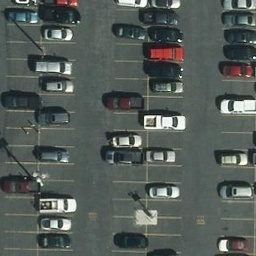car: (218, 97, 255, 115), (218, 180, 255, 198), (211, 234, 248, 252), (149, 43, 185, 61), (146, 60, 182, 78), (144, 114, 185, 129), (102, 94, 143, 109), (41, 25, 75, 42), (36, 147, 74, 162), (40, 197, 78, 212), (152, 78, 185, 95), (110, 21, 143, 38), (149, 25, 182, 42), (220, 63, 255, 79), (221, 44, 256, 60), (221, 26, 256, 42), (1, 179, 38, 194), (7, 8, 41, 24), (37, 60, 71, 76), (42, 78, 76, 94), (4, 93, 38, 109), (38, 111, 72, 127), (219, 11, 256, 24), (114, 234, 150, 247), (38, 216, 73, 229), (36, 234, 71, 247), (146, 182, 181, 195), (105, 148, 140, 161), (217, 151, 248, 165), (146, 150, 175, 163), (110, 134, 141, 146), (145, 13, 178, 24)
